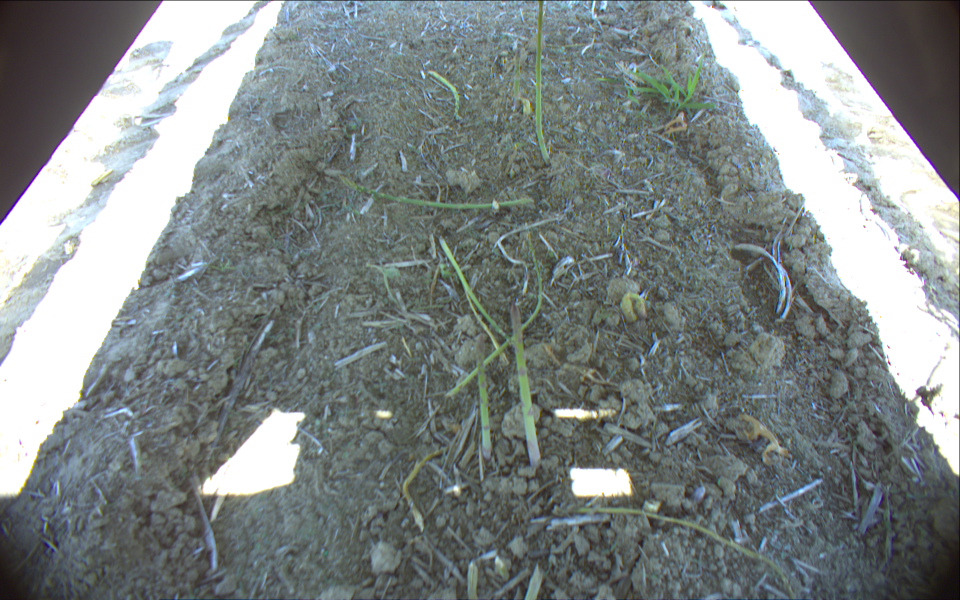aspa: (505, 304, 542, 472), (532, 1, 556, 169), (472, 330, 495, 469)
